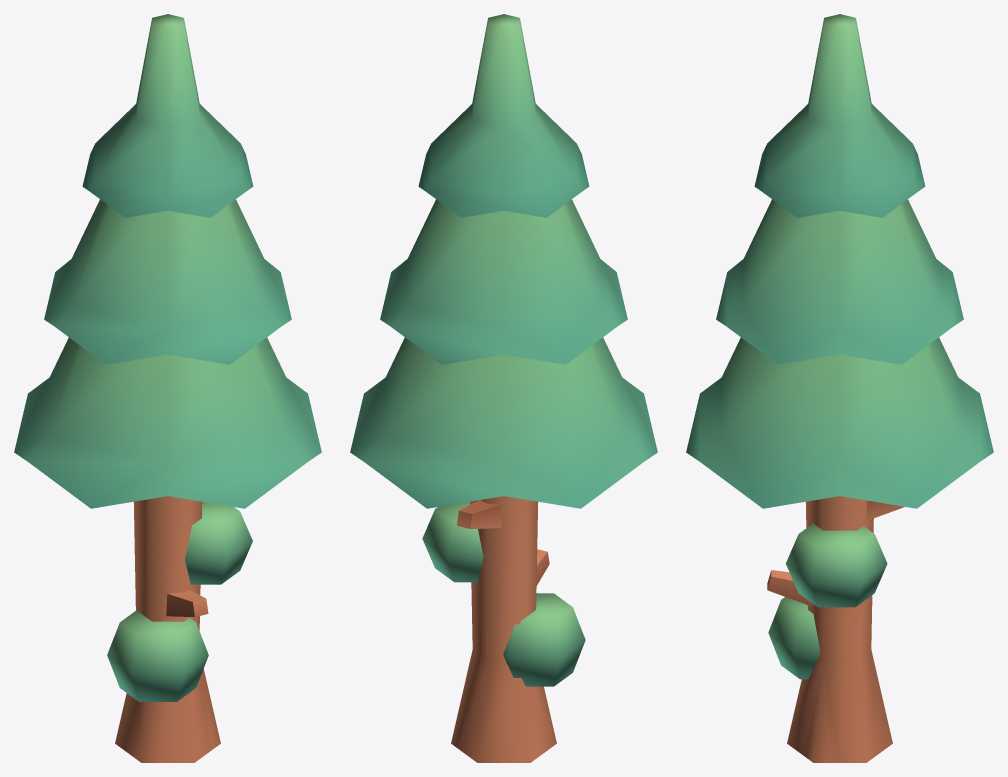
The model's file is pine_tree_01_LOD0.glb.
3 renders of one model, left to right at view 1: azimuth 30°, elevation 25°; view 2: azimuth 150°, elevation 25°; view 3: azimuth 270°, elevation 25°, orthographic.
Visible parts, largest first — view 1: tree-high; view 2: tree-high; view 3: tree-high.
Boxes of the visible parts, x1,y1,x2,y2 form: tree-high: [14, 14, 321, 762]; tree-high: [350, 14, 657, 762]; tree-high: [686, 14, 993, 762].
Size of what is drawn, in the model's own units: 1.11 by 2.74 by 1.06.
Materials: 1 (1 with a texture image).
